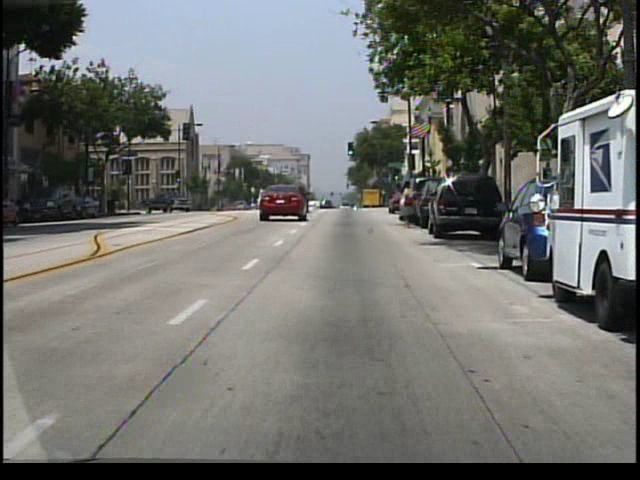person: (394, 179, 419, 230)
